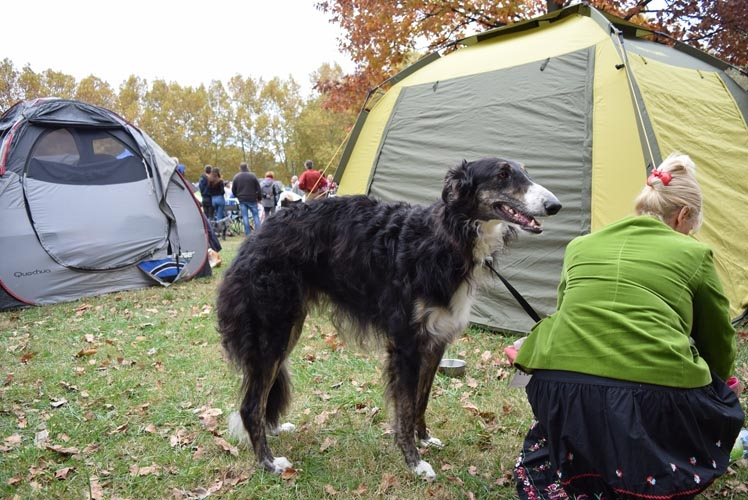borzoi: (208, 151, 565, 481)
